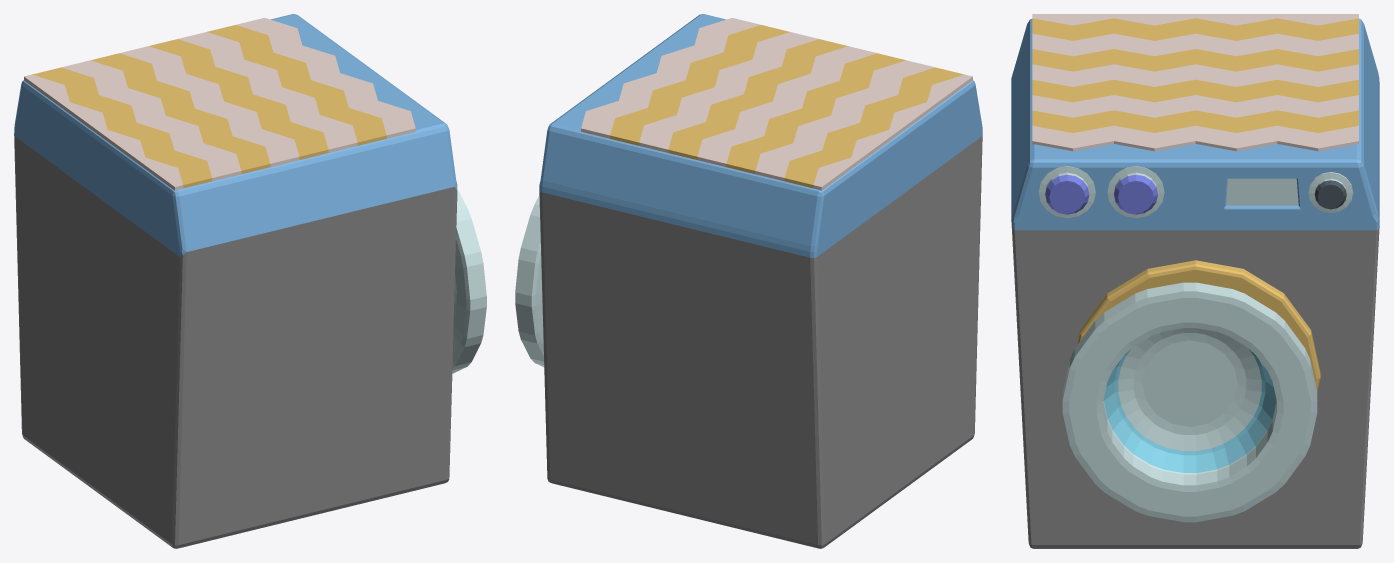
The model's file is washingmachine.fbx.
3 renders of one model, left to right at view 1: azimuth 30°, elevation 25°; view 2: azimuth 150°, elevation 25°; view 3: azimuth 270°, elevation 25°, orthographic. The views are drawn at different scales.
Visible parts, largest first — view 1: Cube.001, Cube.002; view 2: Cube.001, Cube.002; view 3: Cube.001, Cube.002.
Part boxes in pixels (x1,y1,x2,y2): Cube.001: [14, 14, 457, 548]; Cube.002: [452, 189, 486, 373]; Cube.001: [539, 14, 982, 548]; Cube.002: [515, 195, 544, 367]; Cube.001: [1011, 14, 1379, 548]; Cube.002: [1062, 282, 1317, 522].
Bounding box in the file's own units: 709 × 747 × 635.
